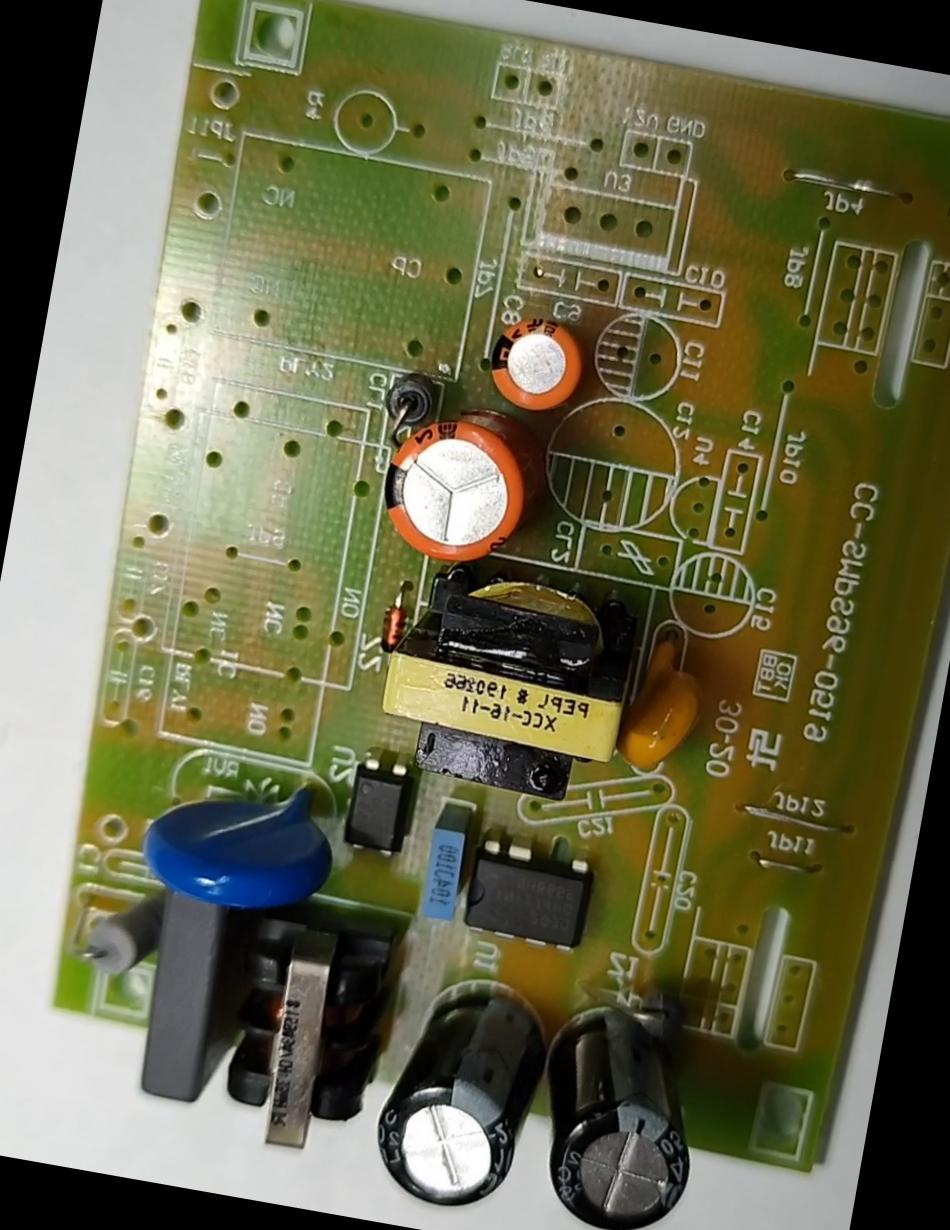Cap1: (359, 394, 550, 582)
Cap2: (471, 303, 598, 422)
Cap3: (362, 961, 568, 1229)
Cap4: (516, 987, 721, 1229)
MOSFET: (449, 834, 598, 963)
Mov: (134, 746, 344, 926)
Resistor: (64, 890, 167, 992)
Transformer: (362, 546, 652, 820), (206, 910, 408, 1164)
